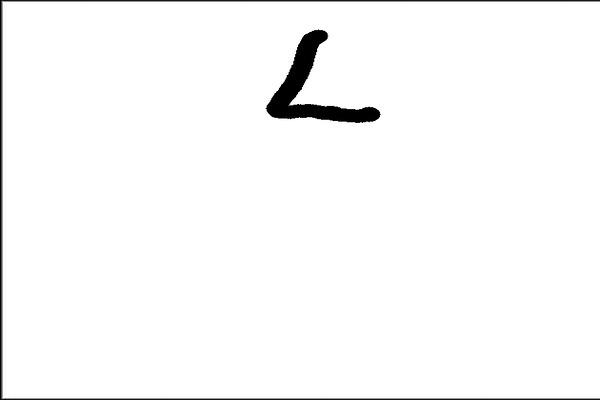L: (256, 22, 389, 129)
